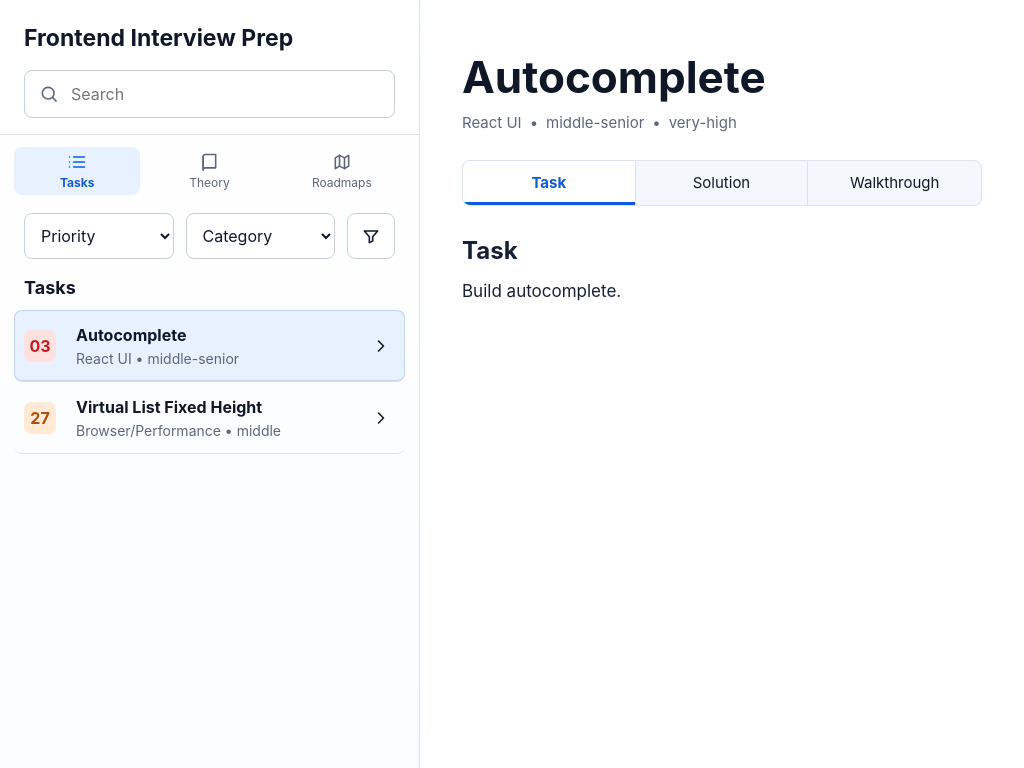
it: App › renders a mobile reader with searchable tasks and detail tabs
The image size is (1024, 768).
Expected: the heading "Frontend Interview Prep" is shown, [24,24,293,52]
Expected: the search field labelled "Search" is shown, [69,83,380,105]
Click the tab "Solution" at [722, 183], box [636,161,808,205]
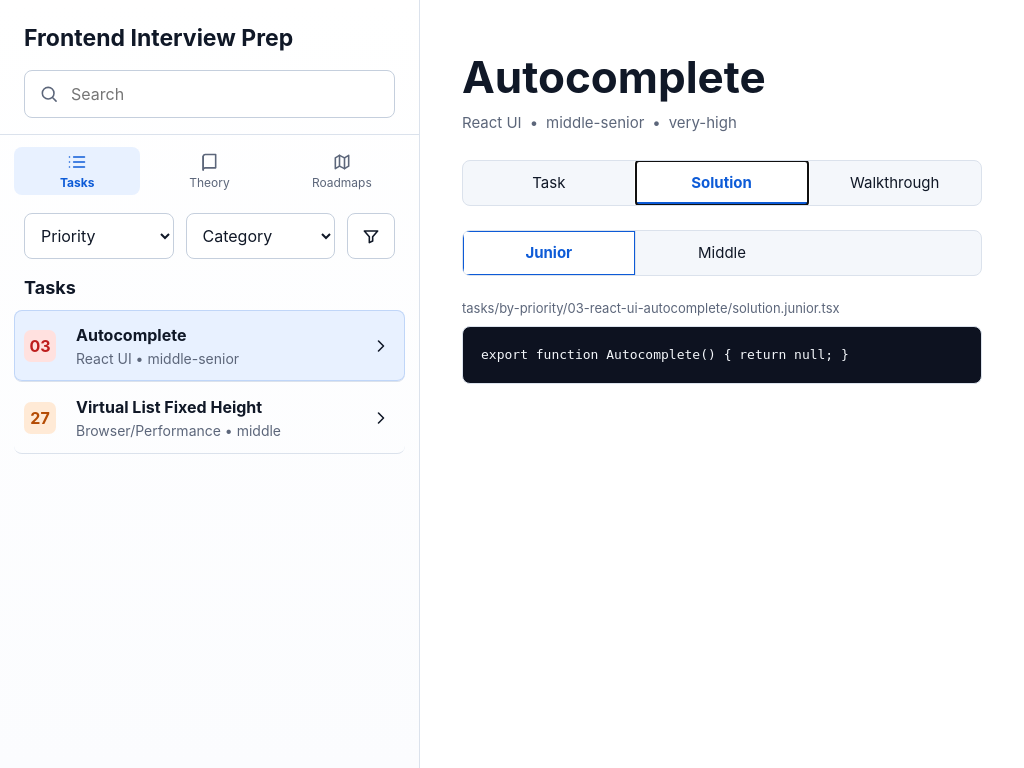
Expected: the element named "Junior solution" shows "export function Autocomplete", [481,347,849,362]
Expected: the element with class "shiki" is shown, [462,326,982,384]
Click the tab "Walkthrough" at [895, 183], box [808,161,981,205]
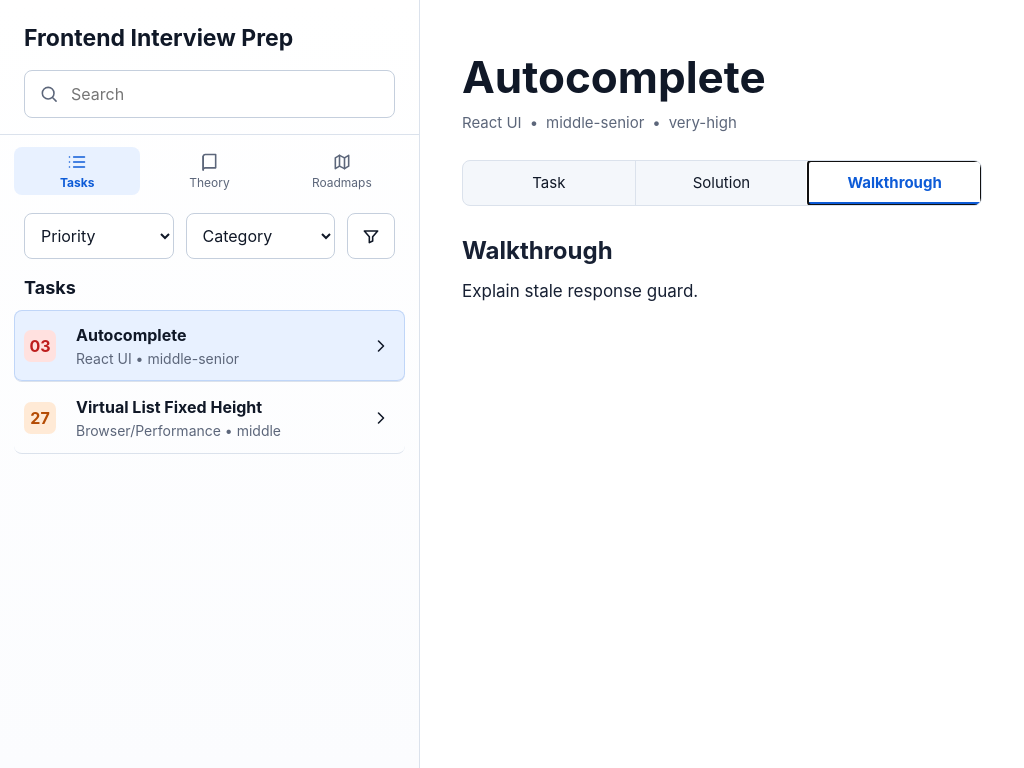
Expected: the text "Explain stale response guard." is shown, [462,281,698,301]
